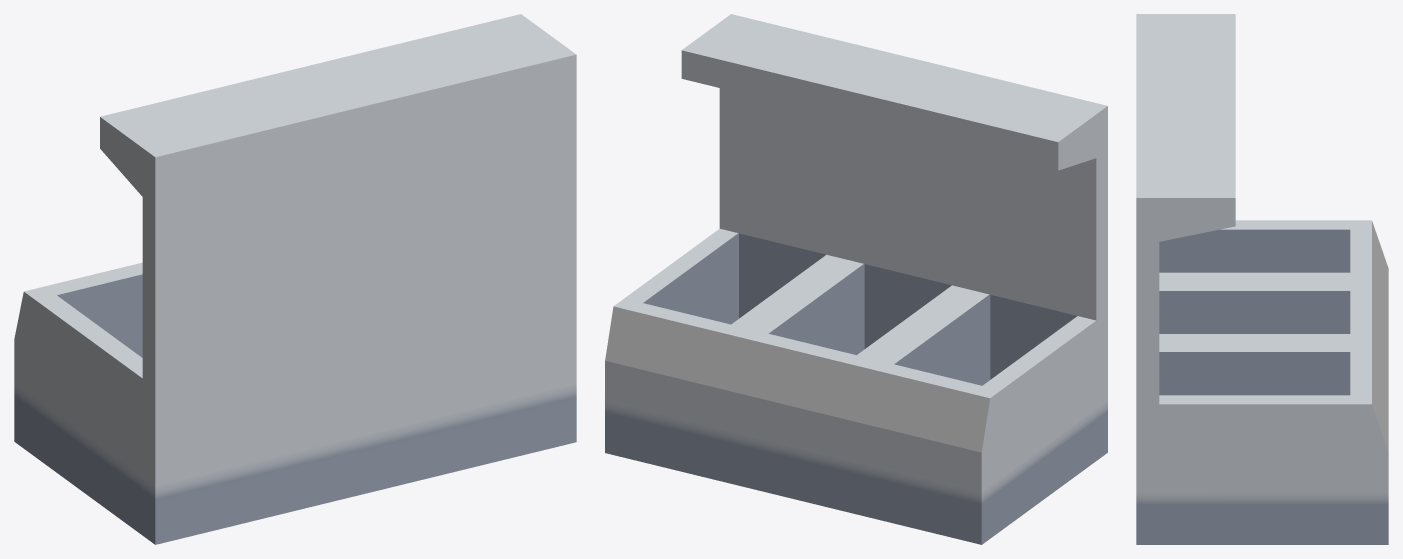
Rendered from f_frier.fbx.
The picture shows the model from 3 angles, left to right: view 1: azimuth 30°, elevation 25°; view 2: azimuth 150°, elevation 25°; view 3: azimuth 270°, elevation 25°; orthographic projection. The views are drawn at different scales.
Visible parts, largest first — view 1: texture; view 2: texture; view 3: texture.
Part boxes in pixels (x1,y1,x2,y2): texture: (14, 14, 576, 544); texture: (605, 14, 1107, 544); texture: (1136, 14, 1388, 544).
Bounding box in the file's own units: 262 × 230 × 152.
